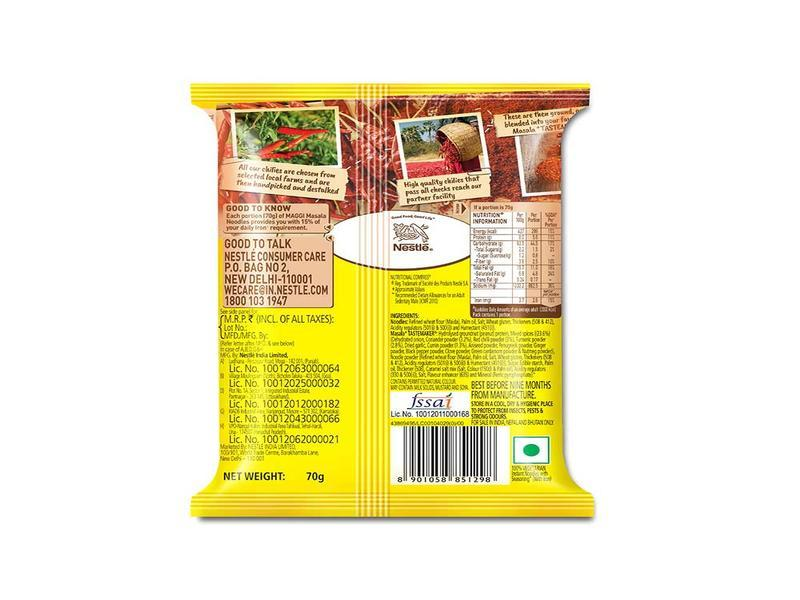maggi-small: (190, 80, 595, 518)
